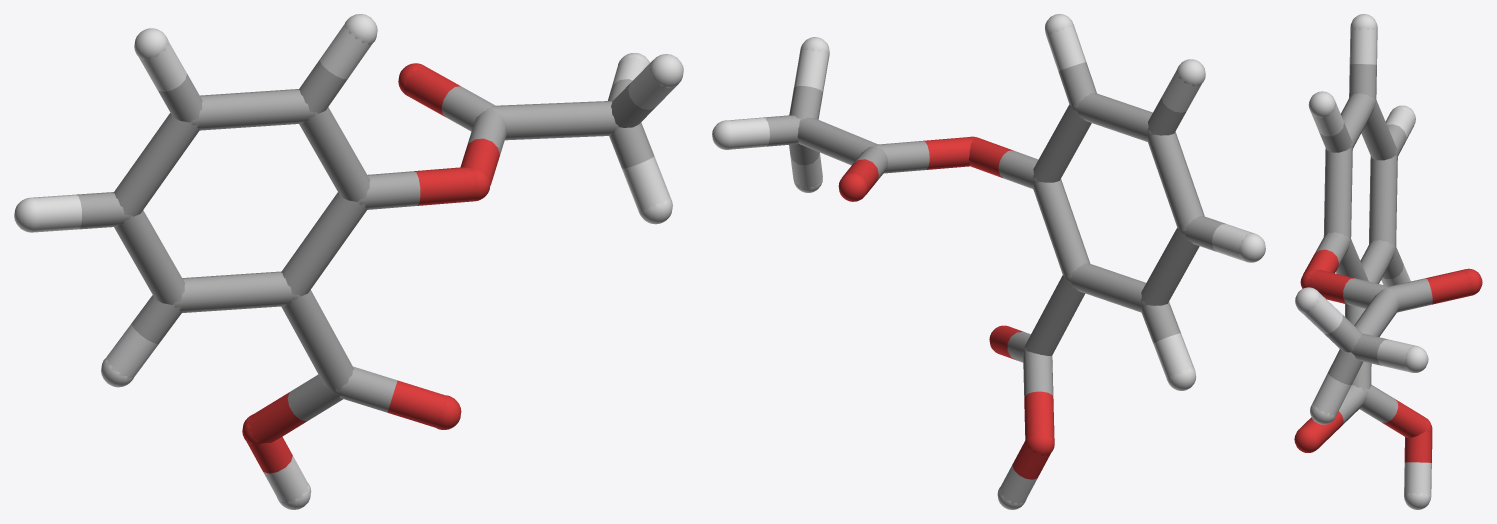
Rendered from aspirin-sticks.glb.
3 views of the same model, side by side, from view 1: azimuth 30°, elevation 25°; view 2: azimuth 150°, elevation 25°; view 3: azimuth 270°, elevation 25° (orthographic). The views are drawn at different scales.
Visible parts, largest first — view 1: aspirin-sticks; view 2: aspirin-sticks; view 3: aspirin-sticks.
Boxes of the visible parts, x1,y1,x2,y2 form: aspirin-sticks: (14,14,683,509); aspirin-sticks: (712,14,1265,509); aspirin-sticks: (1294,14,1482,509).
Bounding box in the file's own units: 8.44 × 6.88 × 2.75.
